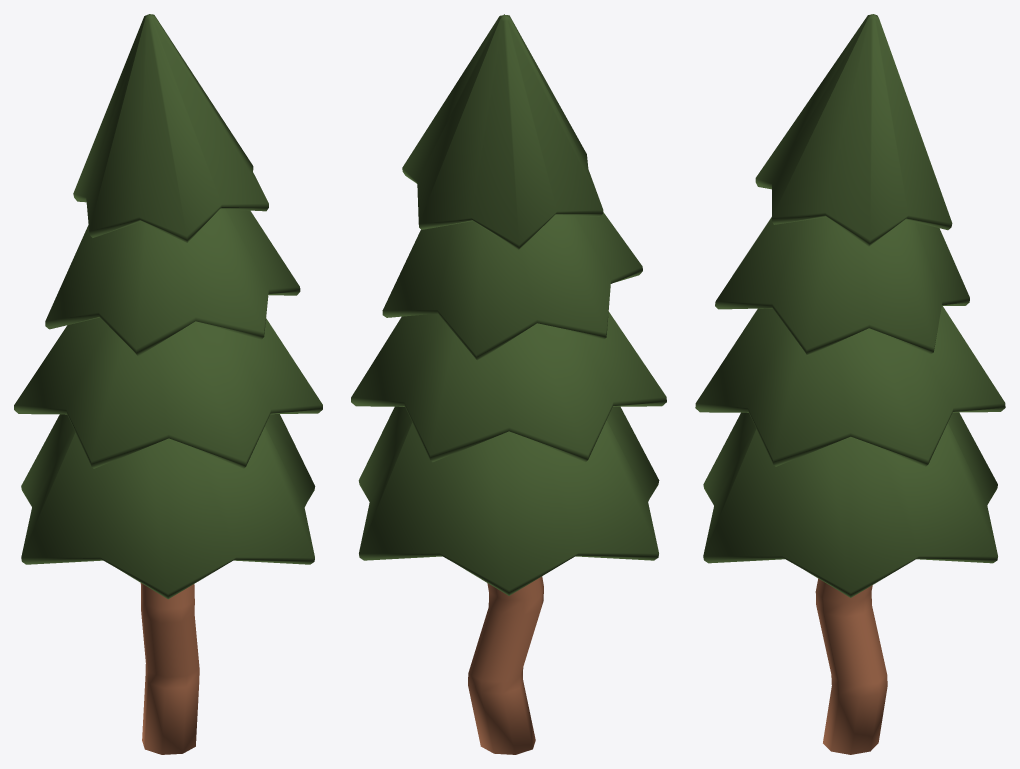
The model's file is TreeGreen.fbx.
3 views of the same model, side by side, from view 1: azimuth 30°, elevation 25°; view 2: azimuth 150°, elevation 25°; view 3: azimuth 270°, elevation 25° (orthographic). The views are drawn at different scales.
Visible parts, largest first — view 1: Tree_1; view 2: Tree_1; view 3: Tree_1.
Boxes of the visible parts, box(x1,y1,x2,y2) form: Tree_1: box(14, 14, 322, 754); Tree_1: box(351, 14, 666, 754); Tree_1: box(695, 14, 1005, 754).
Size of the model in its own units: 1.52 by 3.58 by 1.39.
